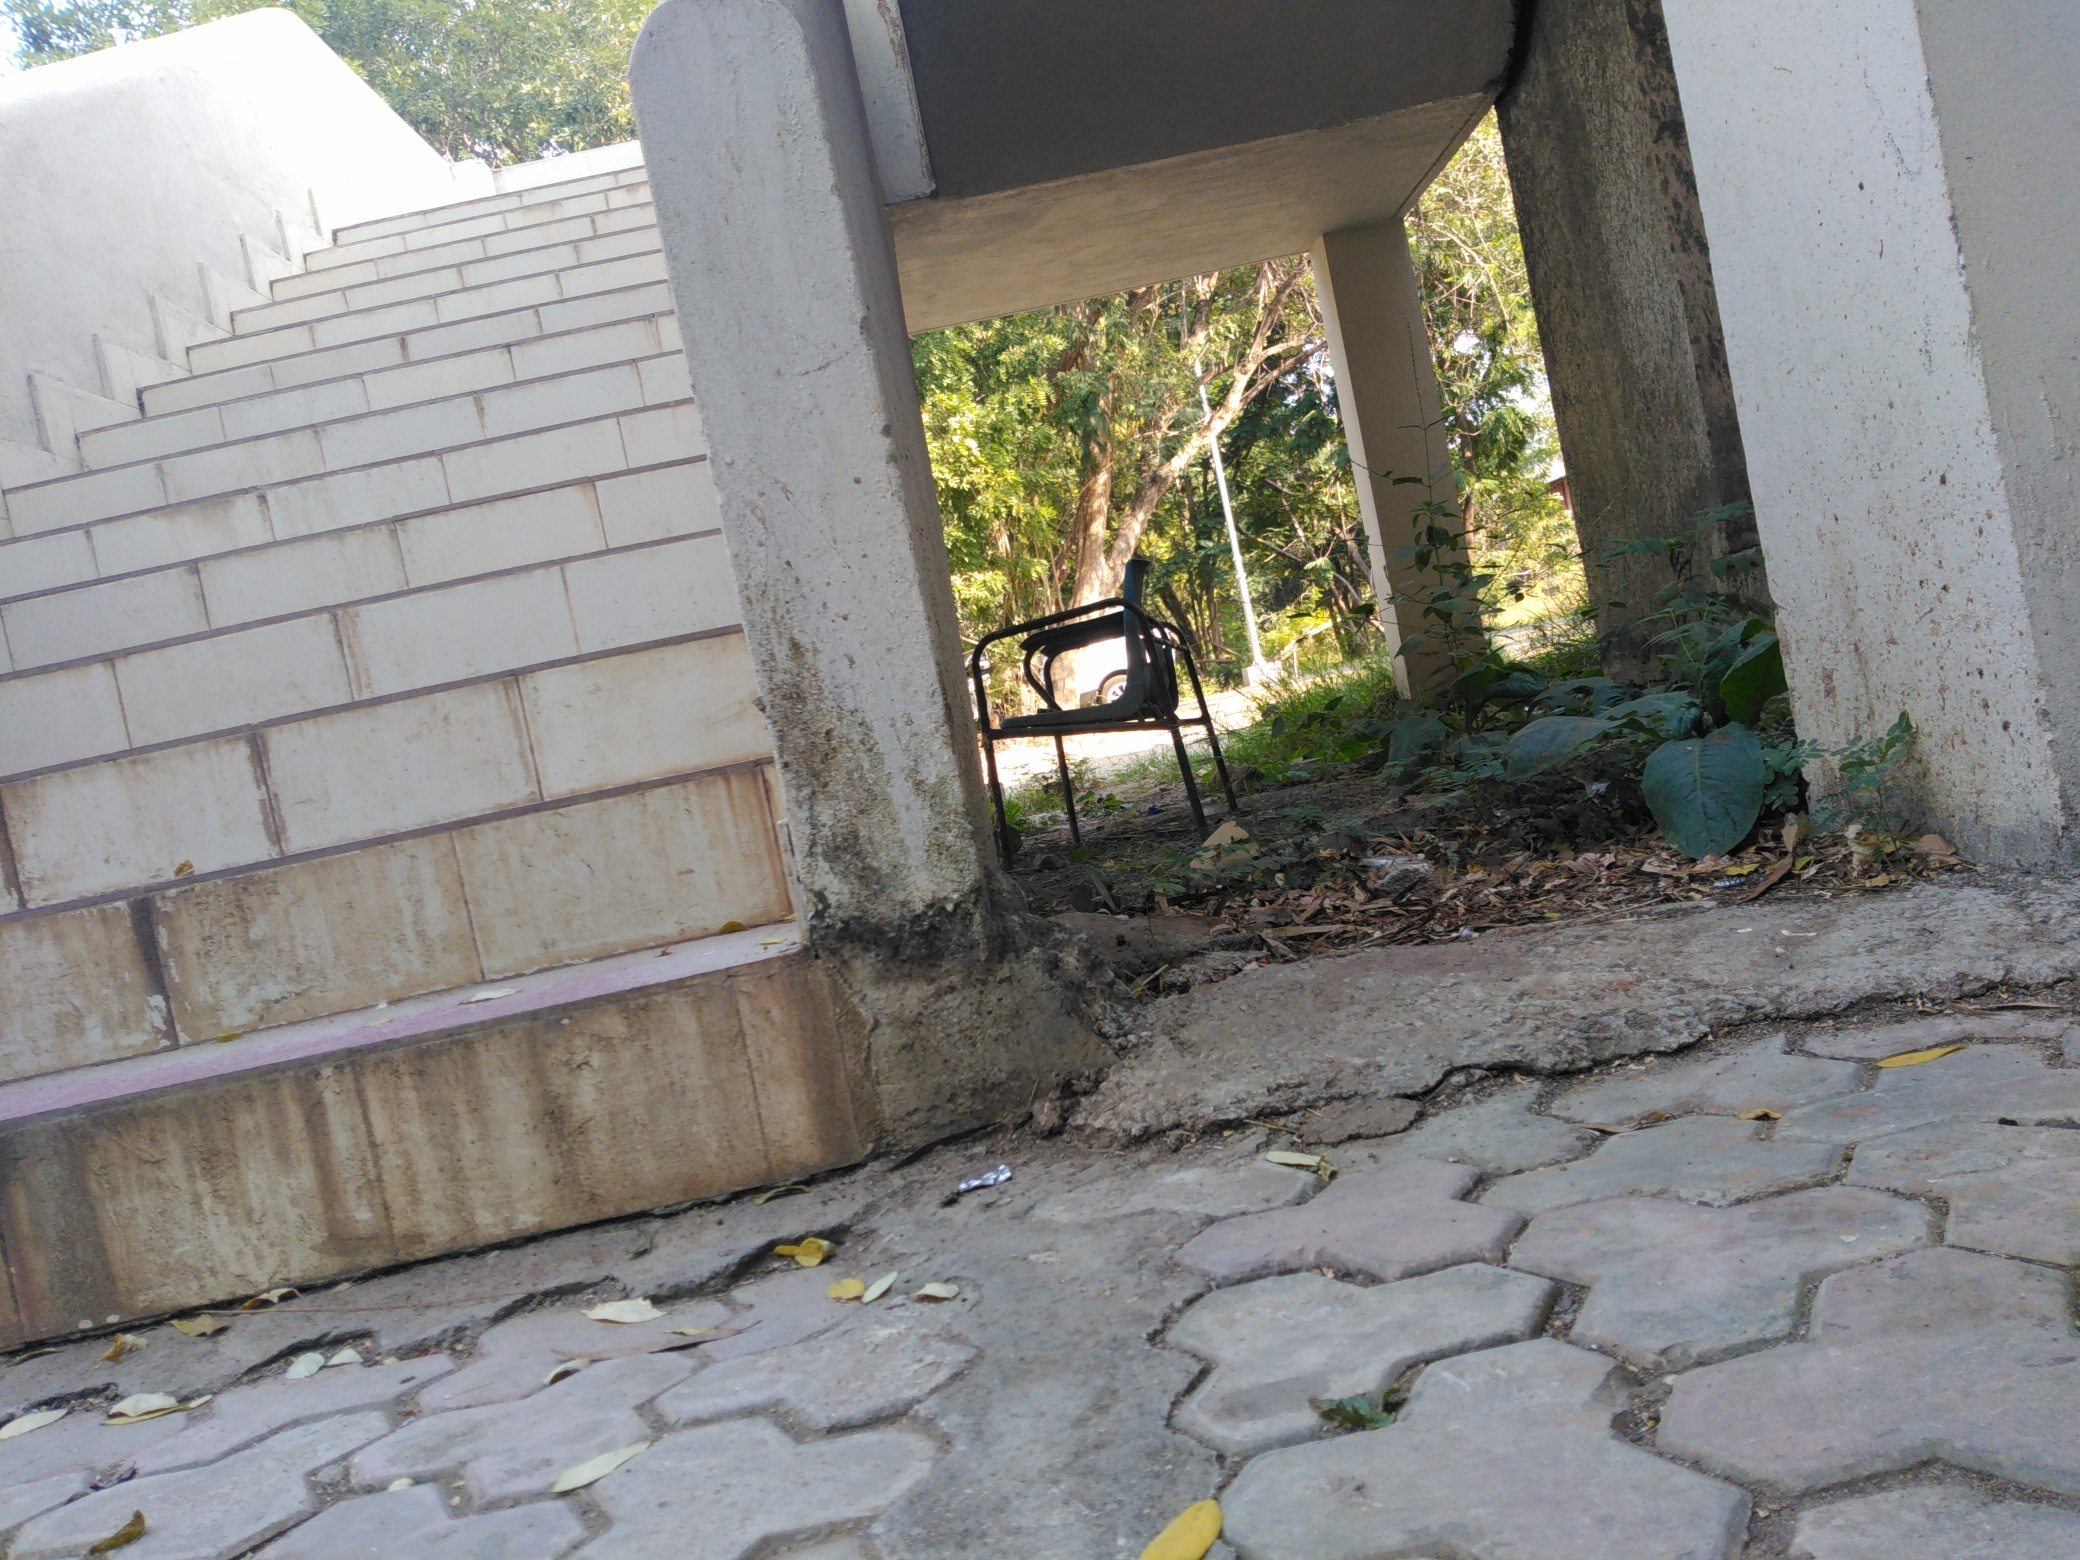stairs_up: (16, 198, 821, 1245)
